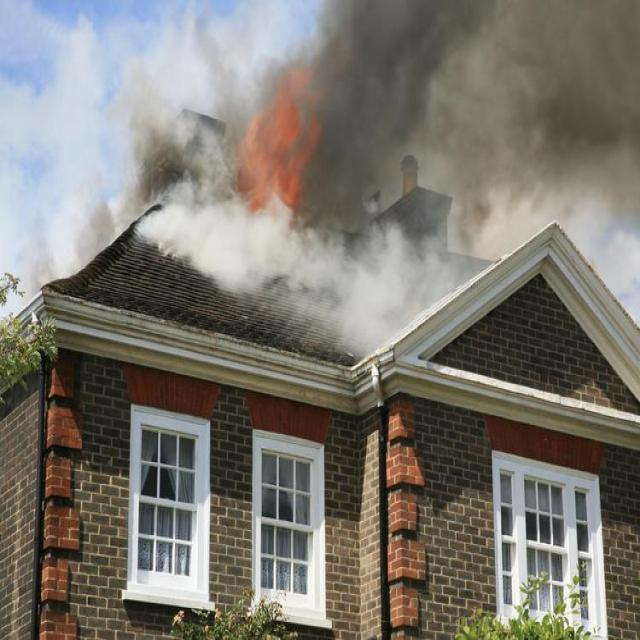Fire: (238, 61, 323, 208)
Smoke: (327, 0, 640, 235), (0, 0, 236, 290), (239, 211, 444, 357)
